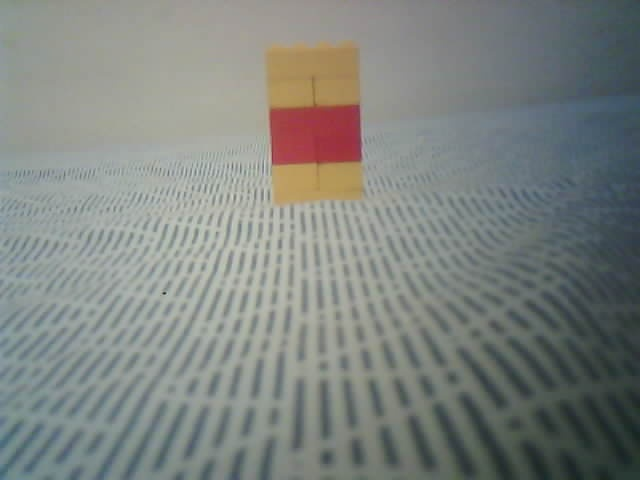lego: (262, 39, 365, 206)
